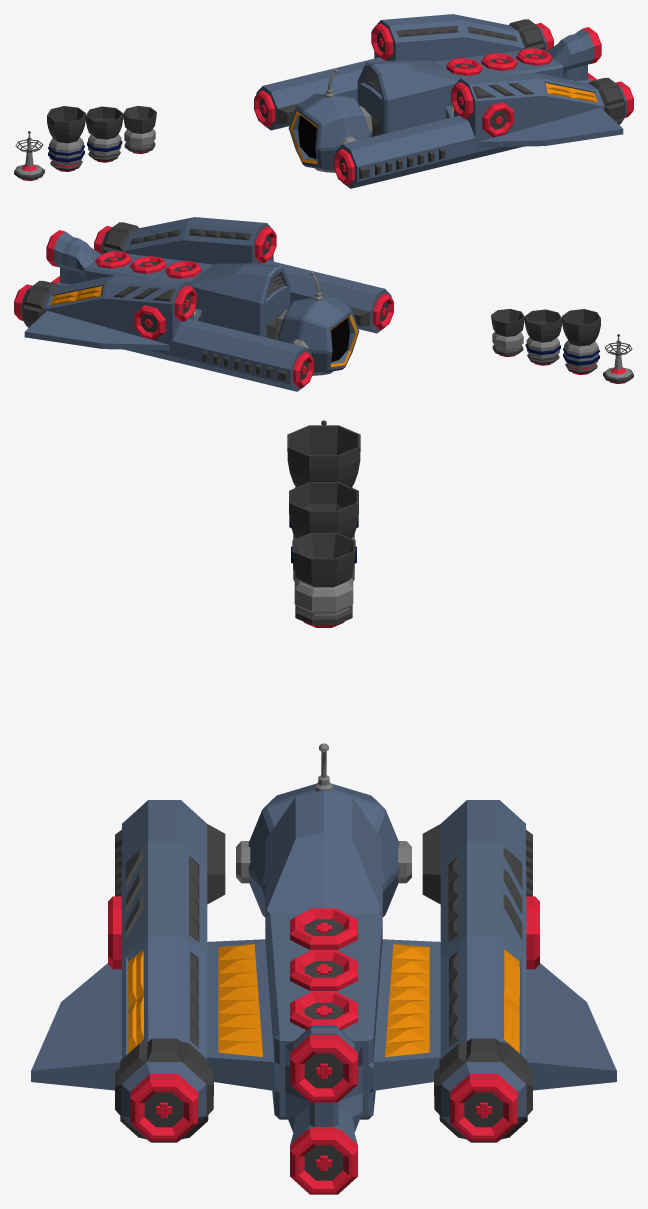
File: grapplebeam_update.fbx
3 renders of one model, top to bottom at view 1: azimuth 30°, elevation 25°; view 2: azimuth 150°, elevation 25°; view 3: azimuth 270°, elevation 25°, orthographic. The views are drawn at different scales.
Visible parts, largest first — view 1: Spaceship, Player, Thruster3, Thruster2, Thruster1, DockLeft, GrappleBeam, DockFront4, DockFront3, DockFront2, DockFront1, DockTop1 (+4 smaller); view 2: Spaceship, Player, Thruster3, Thruster2, Thruster1, DockRight, GrappleBeam, DockFront3, DockFront4, DockFront1, DockFront2, DockTop1 (+4 smaller); view 3: Spaceship, Player, Thruster1, Thruster3, DockBack3, DockBack1, DockBack2, DockBack4, Thruster2, DockTop1, DockTop2, DockTop3.
Boxes of the visible parts, left/top/right/bottom form: Spaceship: left=256, top=14, right=626, bottom=188; Player: left=288, top=69, right=372, bottom=172; Thruster3: left=47, top=106, right=85, bottom=171; Thruster2: left=86, top=106, right=123, bottom=162; Thruster1: left=123, top=106, right=156, bottom=154; DockLeft: left=482, top=102, right=513, bottom=137; GrappleBeam: left=14, top=131, right=44, bottom=180; DockFront4: left=371, top=23, right=393, bottom=60; DockFront3: left=451, top=82, right=473, bottom=118; DockFront2: left=254, top=90, right=275, bottom=126; DockFront1: left=334, top=149, right=354, bottom=185; DockTop1: left=446, top=58, right=482, bottom=75; Spaceship: left=21, top=217, right=391, bottom=391; Player: left=275, top=272, right=359, bottom=375; Thruster3: left=562, top=309, right=600, bottom=374; Thruster2: left=524, top=309, right=561, bottom=365; Thruster1: left=491, top=309, right=524, bottom=357; DockRight: left=134, top=305, right=165, bottom=340; GrappleBeam: left=603, top=334, right=633, bottom=383; DockFront3: left=254, top=226, right=276, bottom=263; DockFront4: left=174, top=285, right=196, bottom=321; DockFront1: left=372, top=293, right=393, bottom=329; DockFront2: left=293, top=352, right=313, bottom=388; DockTop1: left=165, top=261, right=201, bottom=278; Spaceship: left=31, top=790, right=616, bottom=1144; Player: left=236, top=743, right=411, bottom=917; Thruster1: left=292, top=532, right=355, bottom=627; Thruster3: left=287, top=425, right=360, bottom=537; DockBack3: left=290, top=1035, right=357, bottom=1102; DockBack1: left=130, top=1074, right=197, bottom=1141; DockBack2: left=450, top=1074, right=517, bottom=1141; DockBack4: left=290, top=1127, right=357, bottom=1194; Thruster2: left=289, top=482, right=358, bottom=581; DockTop1: left=290, top=908, right=357, bottom=949; DockTop2: left=290, top=950, right=357, bottom=990; DockTop3: left=290, top=991, right=357, bottom=1029.
Bounding box in the file's own units: 2269 × 452 × 997.
